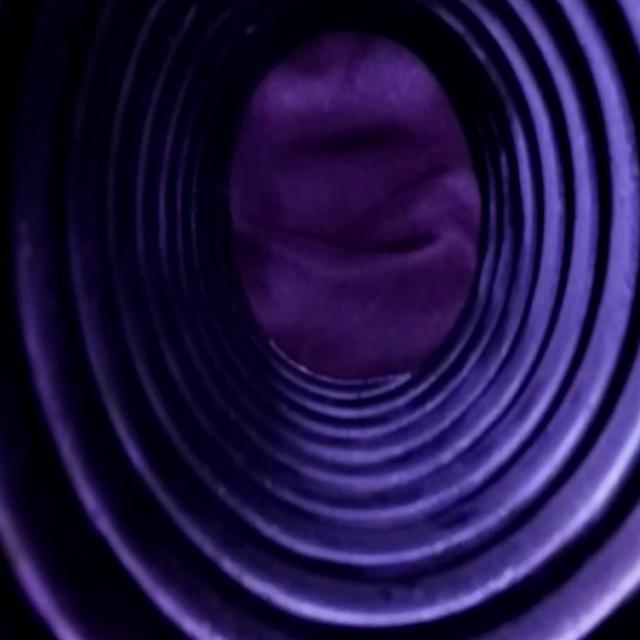block: (228, 34, 486, 372)
